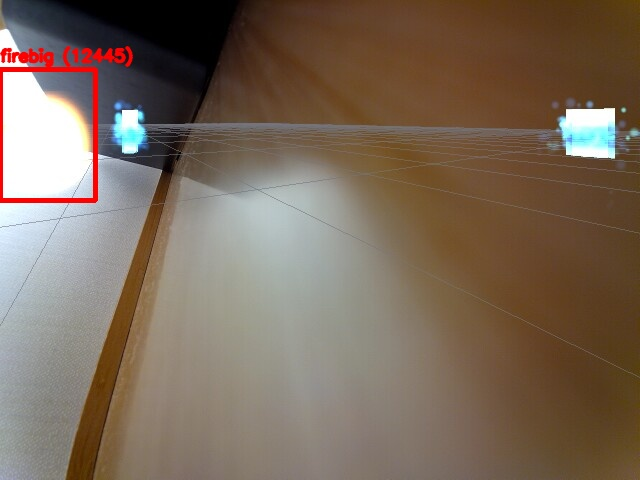firebig: (0, 69, 95, 200)
